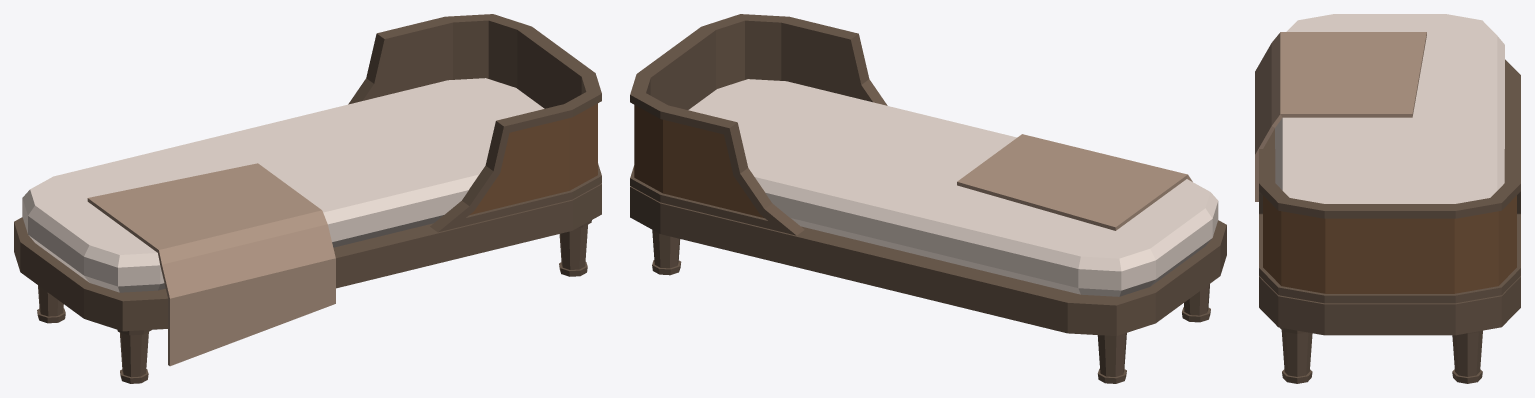
The model's file is Couch_6.fbx.
The picture shows the model from 3 angles, left to right: view 1: azimuth 30°, elevation 25°; view 2: azimuth 150°, elevation 25°; view 3: azimuth 270°, elevation 25°; orthographic projection. The views are drawn at different scales.
Visible parts, largest first — view 1: Couch_6; view 2: Couch_6; view 3: Couch_6.
Boxes of the visible parts, x1,y1,x2,y2 form: Couch_6: (14,14,601,383); Couch_6: (630,14,1226,383); Couch_6: (1255,14,1520,383).
Bounding box in the file's own units: 149 × 65.31 × 50.03.
